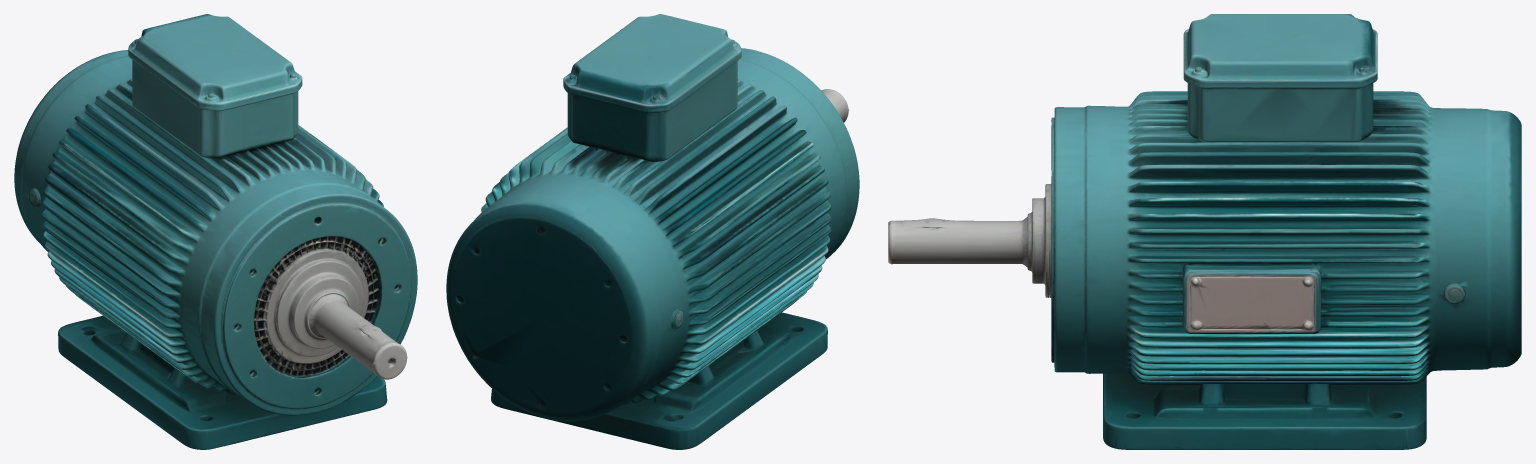
File: dc-motor-optimized.glb
The picture shows the model from 3 angles, left to right: view 1: azimuth 30°, elevation 25°; view 2: azimuth 150°, elevation 25°; view 3: azimuth 270°, elevation 25°; orthographic projection. The views are drawn at different scales.
Visible parts, largest first — view 1: node_0; view 2: node_0; view 3: node_0.
Part boxes in pixels (x1,y1,x2,y2): node_0: (14,14,417,449); node_0: (446,14,859,449); node_0: (888,14,1521,449).
Size of the model in its own units: 0.5267 by 0.685 by 1.1.
1 material, 1 textured.
